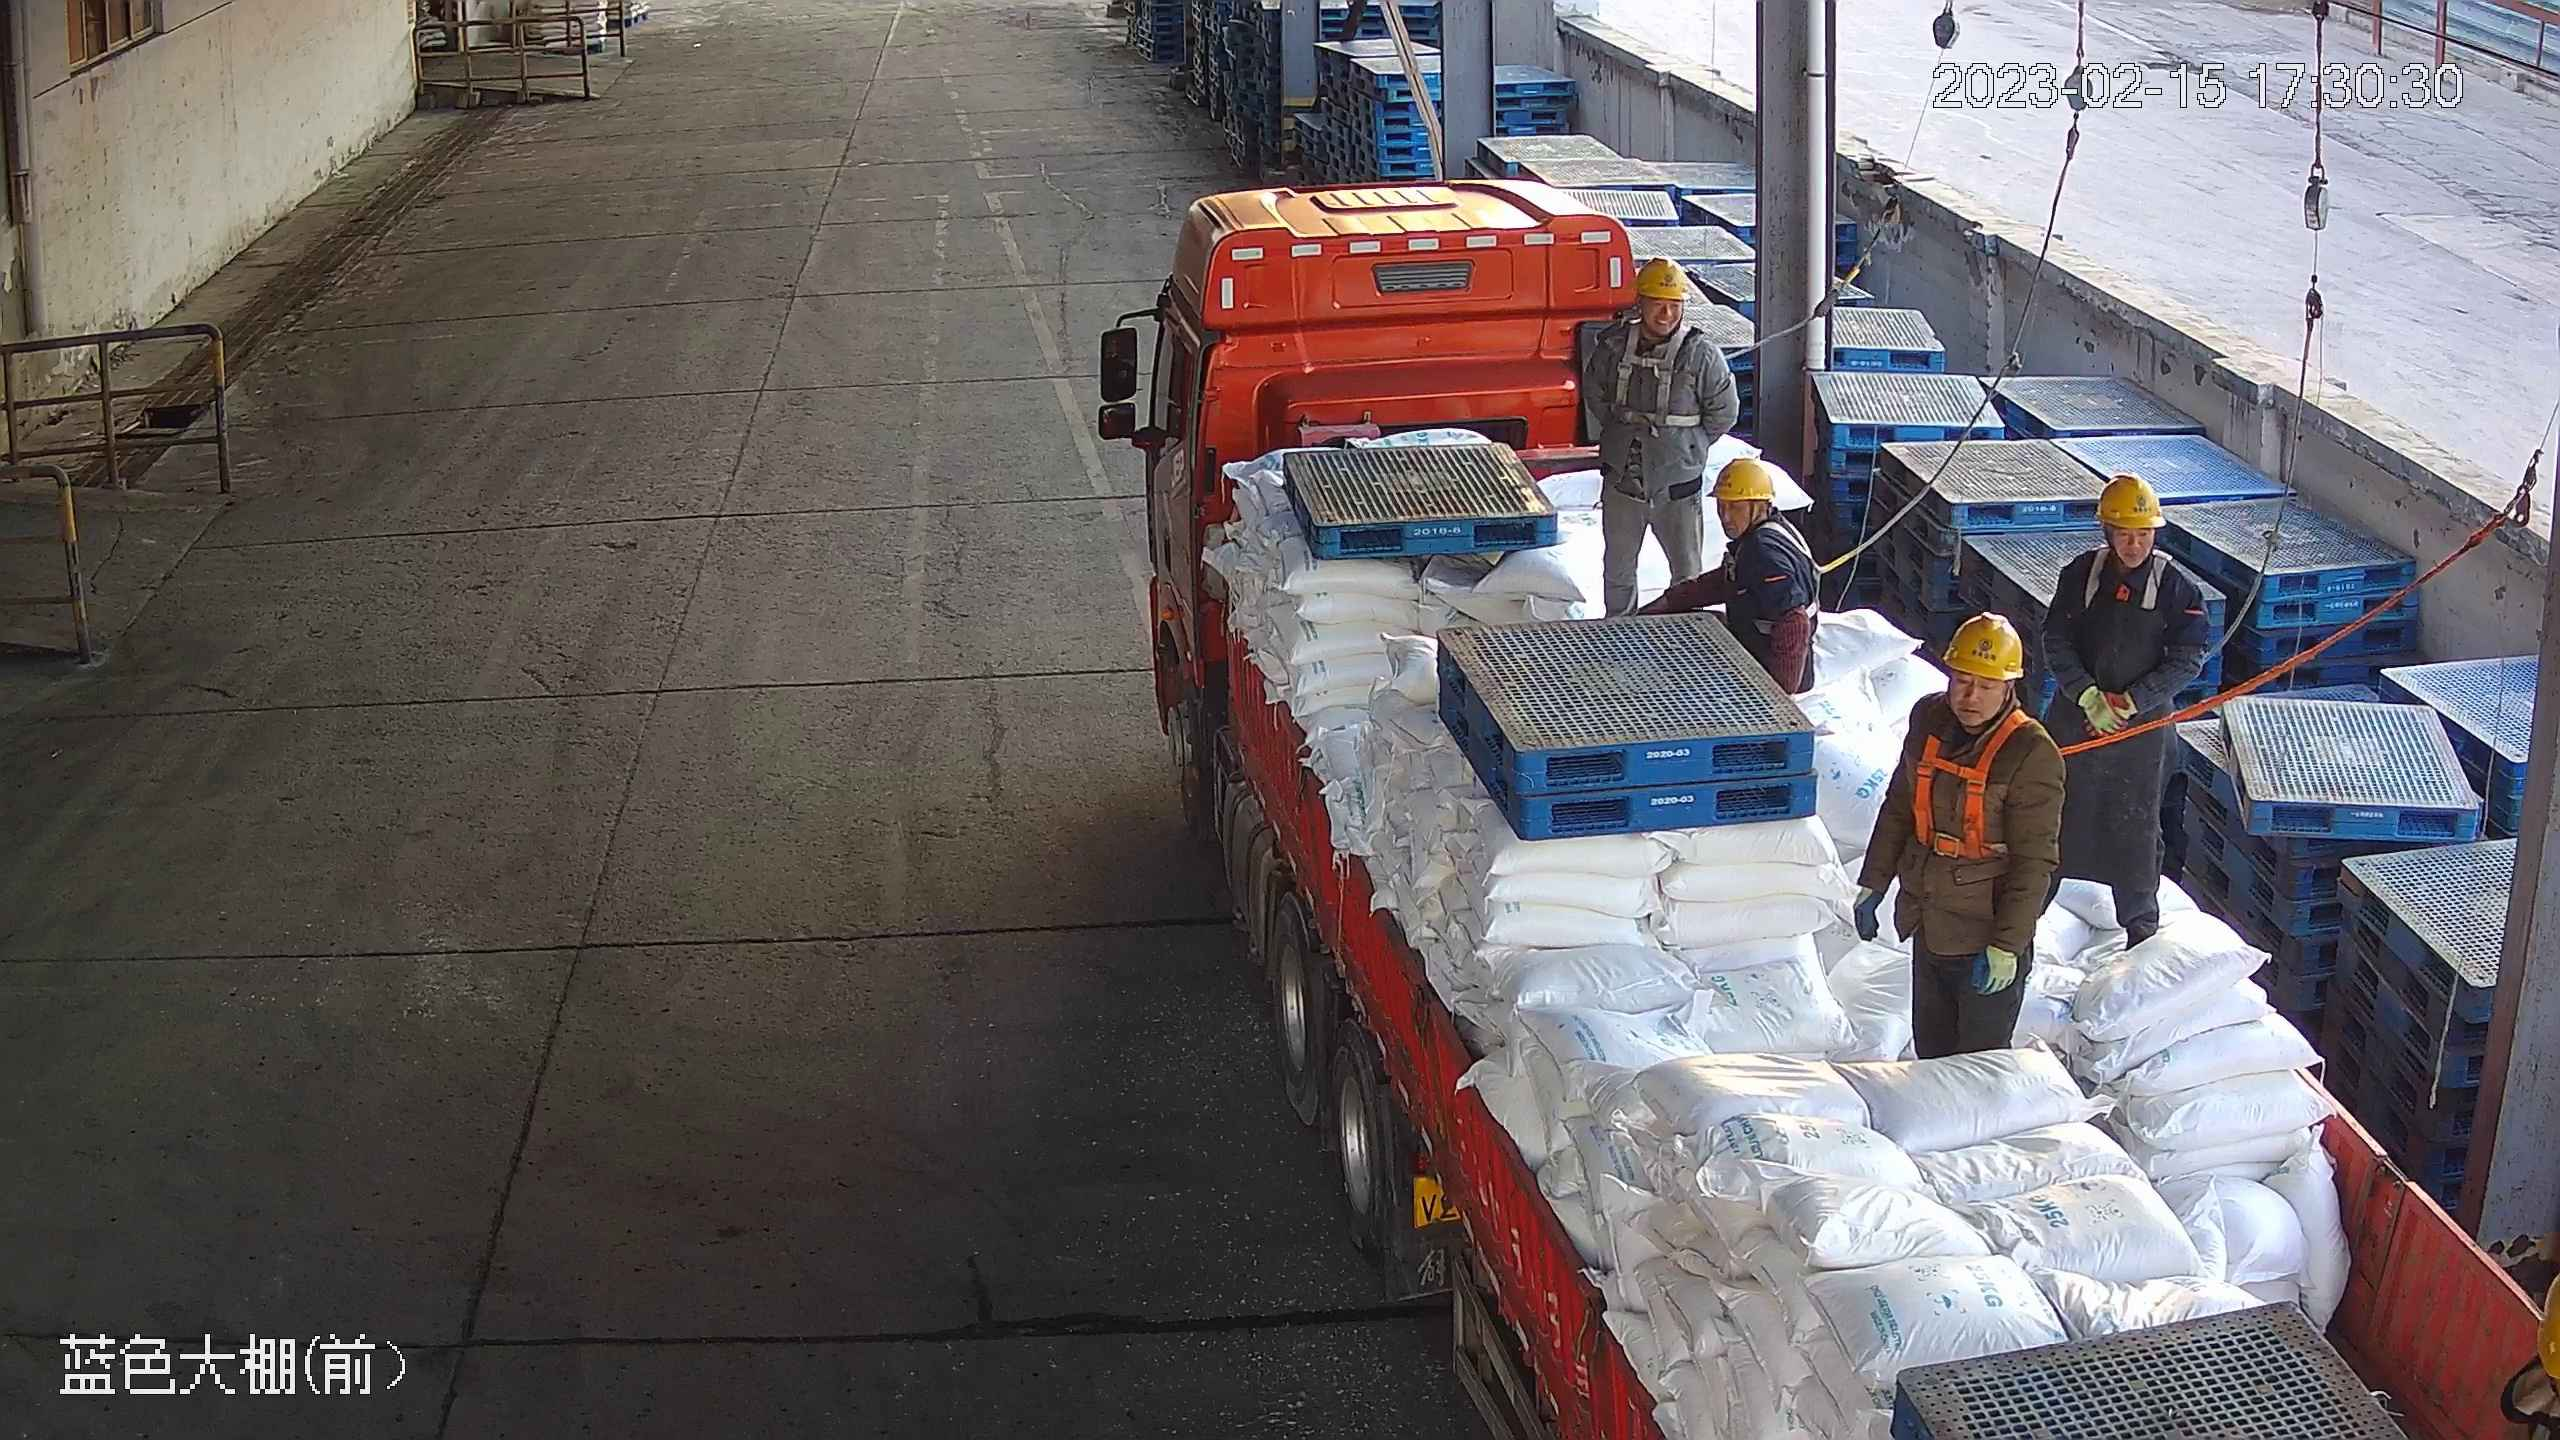belt: (1905, 693, 2092, 865), (2081, 549, 2219, 679), (1603, 315, 1735, 432), (1721, 513, 1837, 634)
head: (1904, 609, 2069, 776), (2055, 472, 2211, 616), (1591, 256, 1728, 367), (1704, 456, 1818, 566)
helmet: (1940, 610, 2026, 682), (2095, 473, 2167, 530), (1704, 457, 1776, 502), (1635, 256, 1693, 302)
people: (1852, 610, 2068, 1061), (2039, 472, 2215, 957), (1574, 256, 1742, 624), (1633, 456, 1821, 701)
truck: (1141, 172, 2560, 1440)
